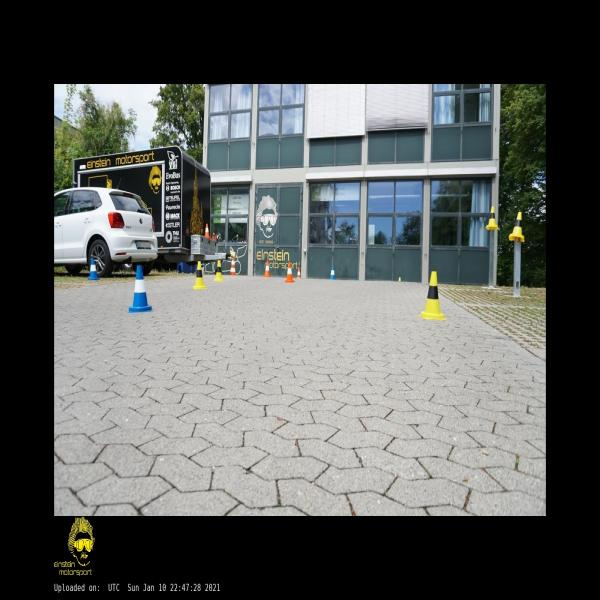blue_cone: (129, 265, 152, 312), (88, 258, 99, 280), (330, 266, 335, 280)
large_orange_cone: (230, 258, 236, 276)
orange_cone: (285, 262, 295, 282), (264, 260, 270, 276), (204, 224, 210, 238), (297, 266, 301, 278)
yellow_cone: (419, 271, 446, 319), (508, 212, 524, 242), (193, 261, 206, 289), (485, 206, 499, 230), (214, 260, 223, 280)
